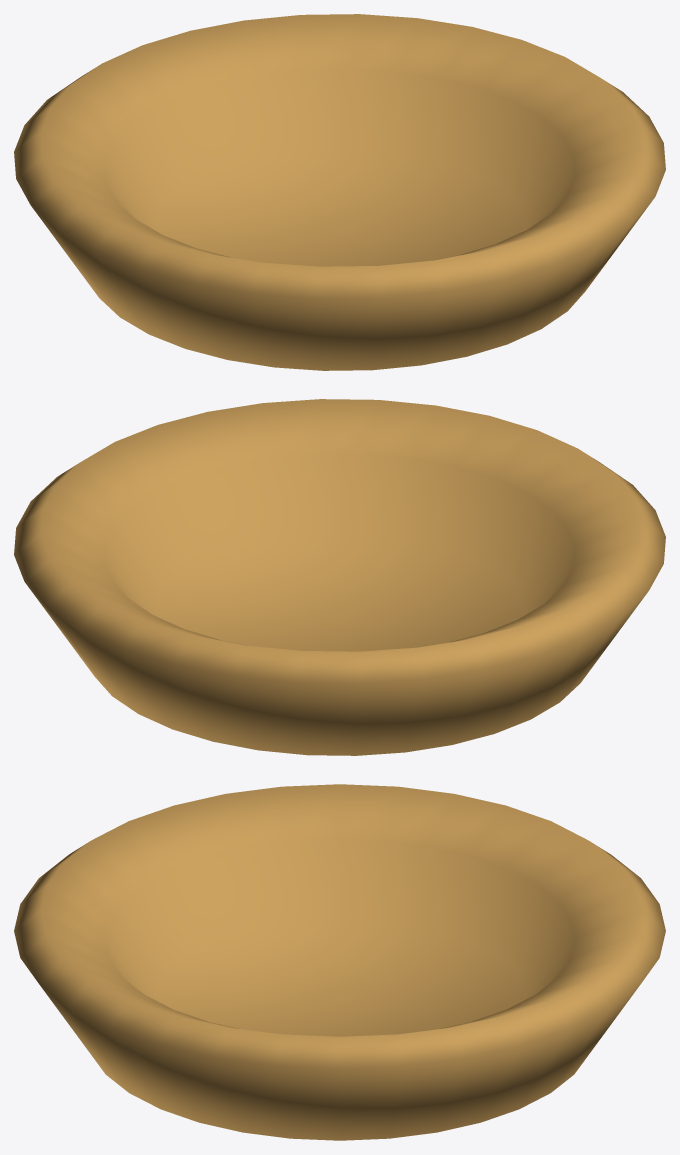
File: brass-ashtray.glb
The picture shows the model from 3 angles, top to bottom: view 1: azimuth 30°, elevation 25°; view 2: azimuth 150°, elevation 25°; view 3: azimuth 270°, elevation 25°; orthographic projection.
Visible parts, largest first — view 1: Spun brass ashtray; view 2: Spun brass ashtray; view 3: Spun brass ashtray.
Boxes of the visible parts, x1=… form: Spun brass ashtray: x1=14, y1=14, x2=665, y2=370; Spun brass ashtray: x1=14, y1=399, x2=665, y2=755; Spun brass ashtray: x1=14, y1=784, x2=665, y2=1140.
Bounding box in the file's own units: 0.144 × 0.03 × 0.144.
